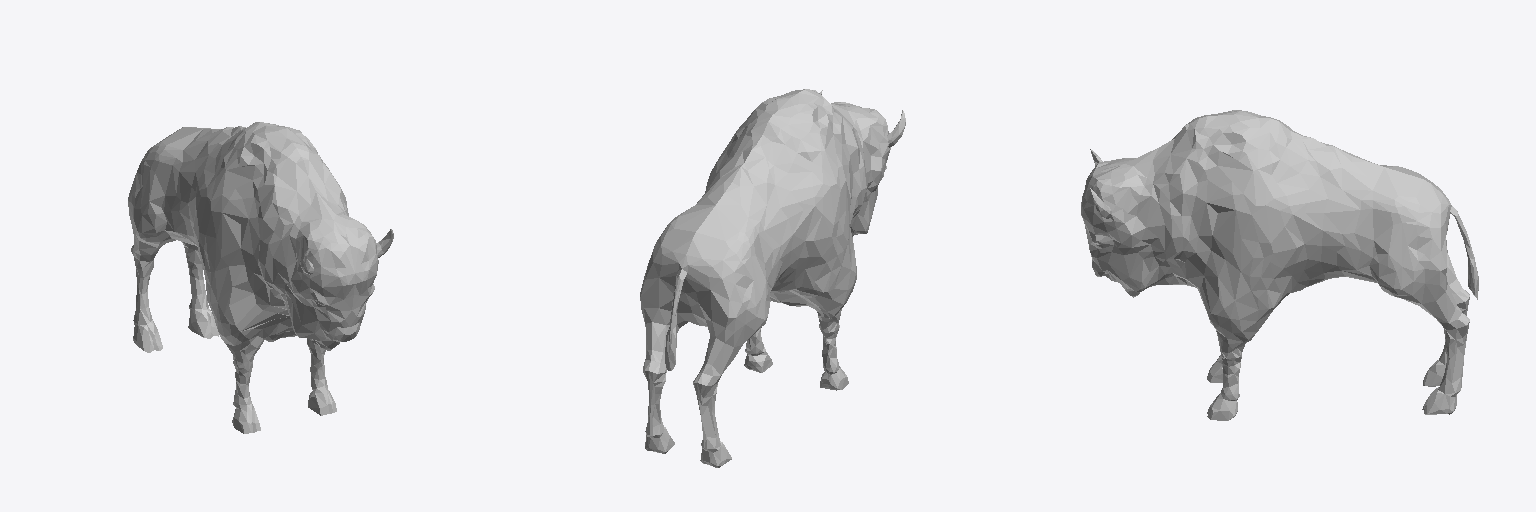
The model's file is BISON.OBJ.
The picture shows the model from 3 angles: view 1: azimuth 30°, elevation 25°; view 2: azimuth 150°, elevation 25°; view 3: azimuth 270°, elevation 25°; orthographic projection.
Visible parts, largest first — view 1: bsn_body; view 2: bsn_body; view 3: bsn_body.
Boxes of the visible parts, x1,y1,x2,y2 form: bsn_body: [128, 122, 378, 433]; bsn_body: [640, 89, 890, 467]; bsn_body: [1081, 110, 1478, 420].
Bounding box in the file's own units: 0.8302 × 1.81 × 2.31.